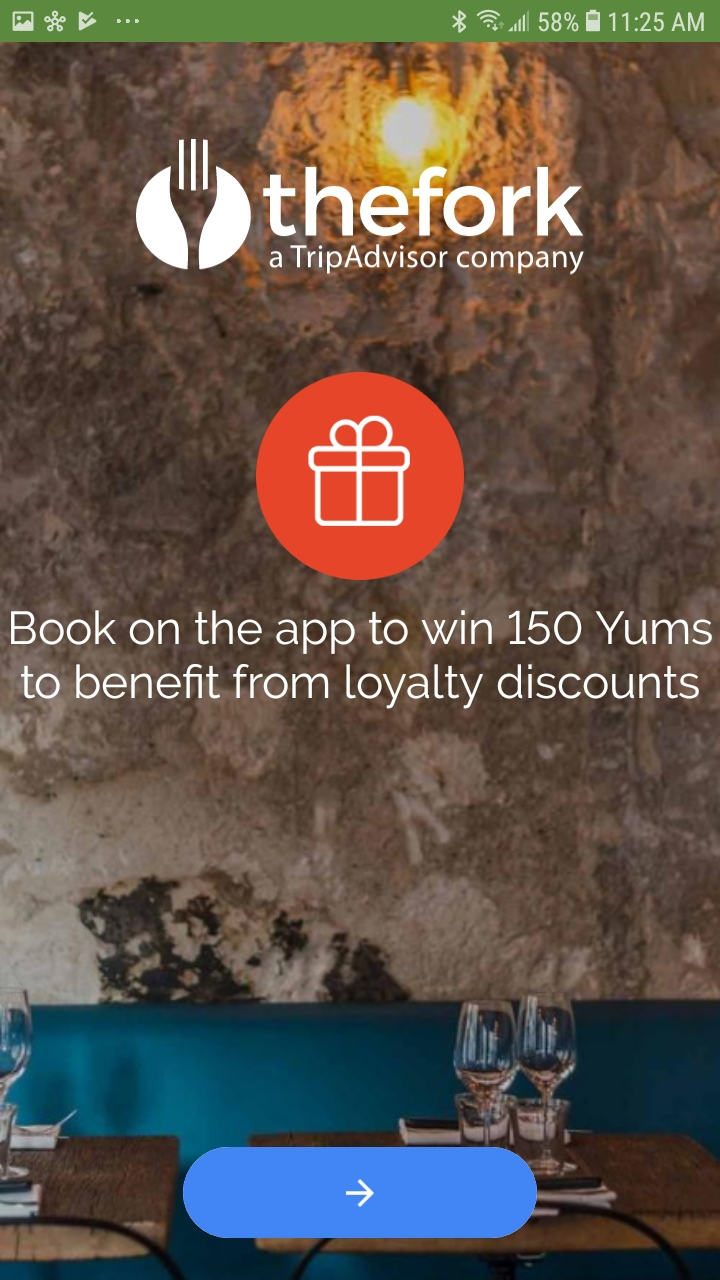BackgroundImage: (1, 43, 720, 1280)
Icon: (256, 373, 464, 582)
Image: (264, 167, 584, 275), (137, 140, 252, 270)
Text: (12, 610, 713, 709)
TextButton: (183, 1147, 538, 1239)
UpperTaskBar: (1, 2, 720, 43)
